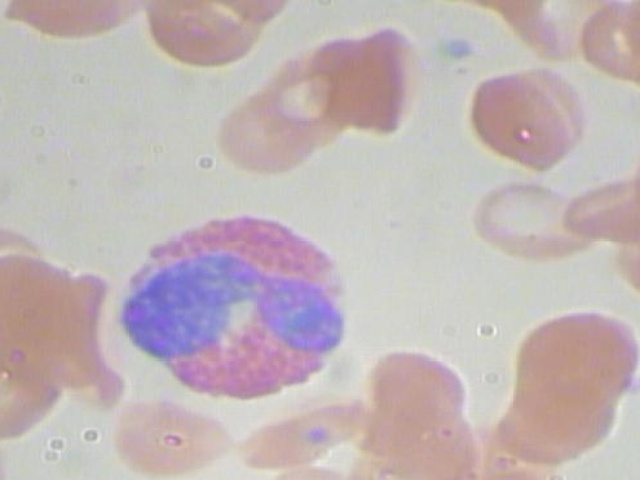Platelets: (429, 31, 479, 67)
RBC: (452, 59, 597, 176), (483, 357, 630, 464), (351, 337, 485, 454), (296, 21, 430, 137), (498, 302, 640, 408), (460, 168, 602, 272), (105, 387, 241, 480), (221, 396, 377, 476), (213, 74, 324, 182), (137, 0, 273, 73), (0, 242, 74, 358), (557, 156, 640, 251), (0, 337, 69, 444), (566, 0, 640, 88), (618, 0, 640, 76), (0, 89, 6, 201)
WBC: (101, 210, 372, 399)
